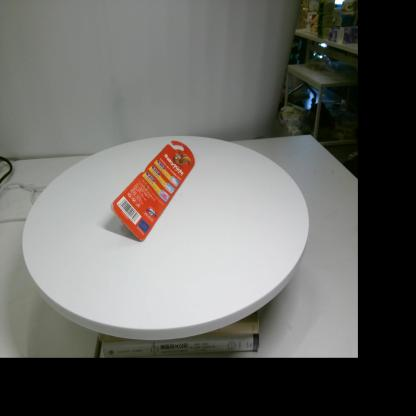Personal Hygiene: (110, 140, 195, 241)
